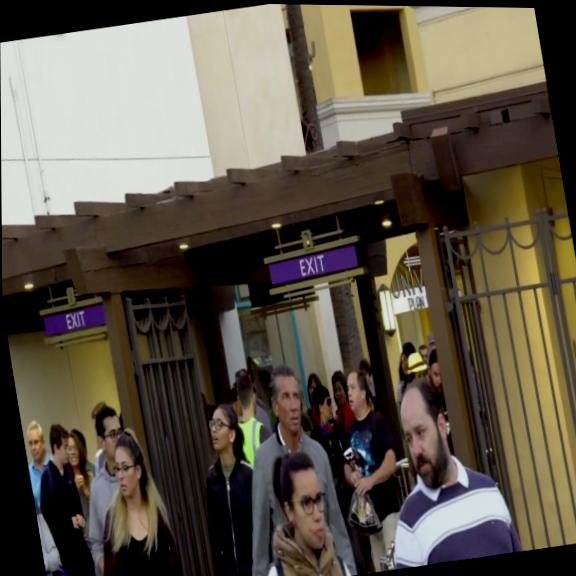safety_vest: (237, 412, 271, 468)
